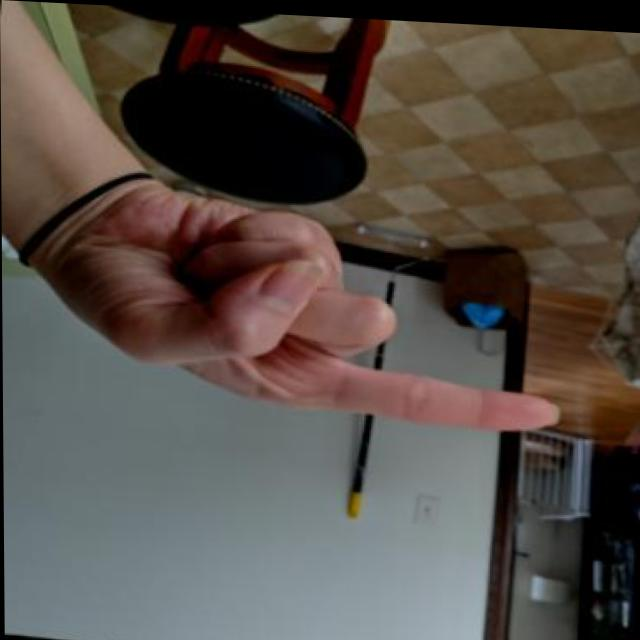G: (53, 162, 583, 449)
